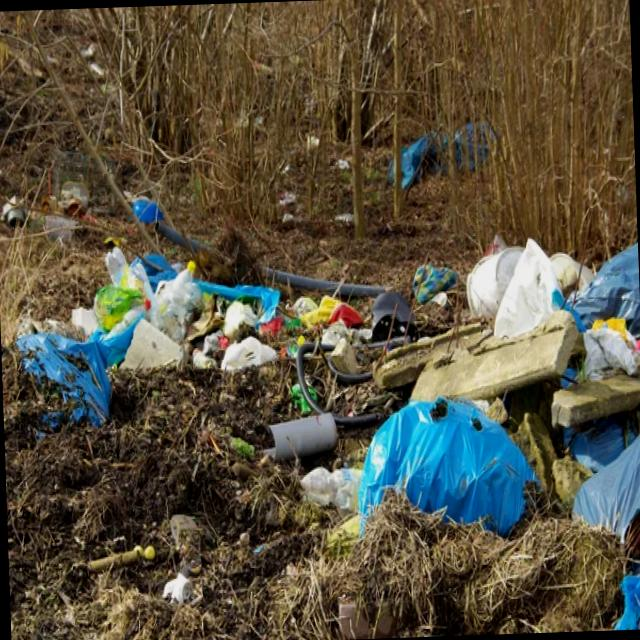garbage: (45, 134, 640, 533)
